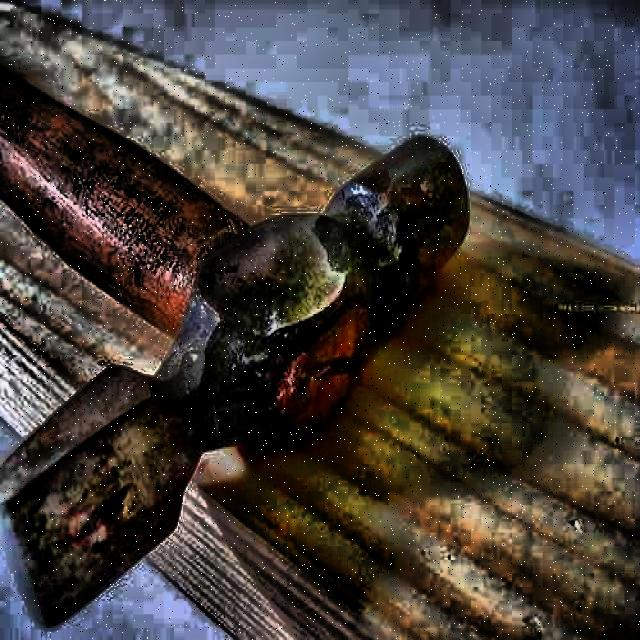hammer: (0, 60, 471, 631)
